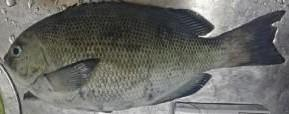fish: (2, 2, 286, 112)
